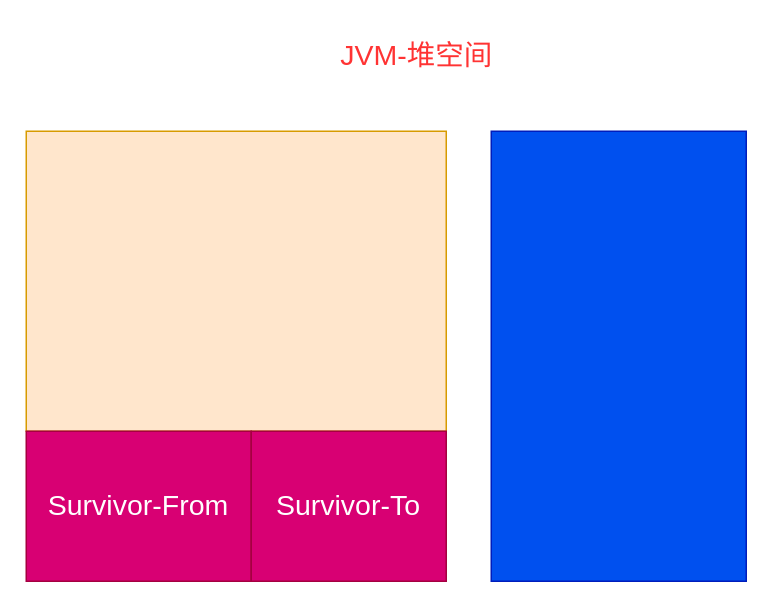
This 773x608 diagram has some shape labels left out. Here are the shapes that lost their labels. From the top down, the centre of each, then its label:
At point (235, 280): "伊甸园 （Eden）".
At point (618, 355): "老年代".
